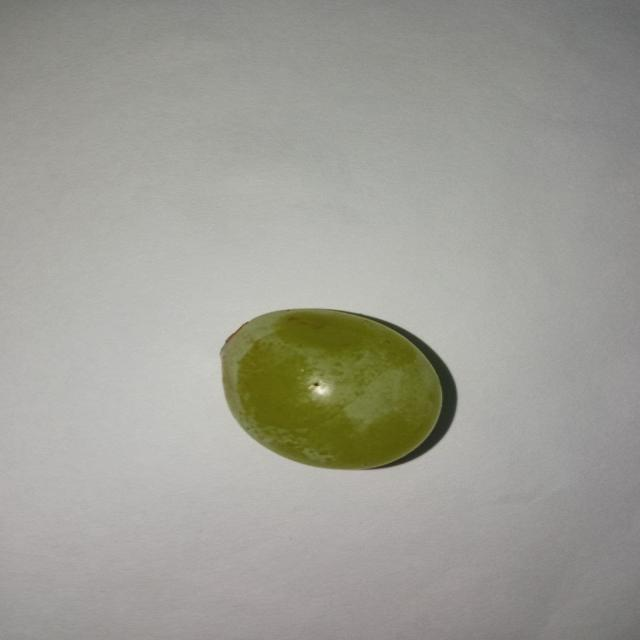fresh_grape: (218, 307, 443, 469)
